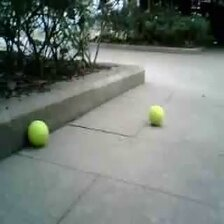tennis: (29, 119, 49, 146), (148, 105, 163, 124)
